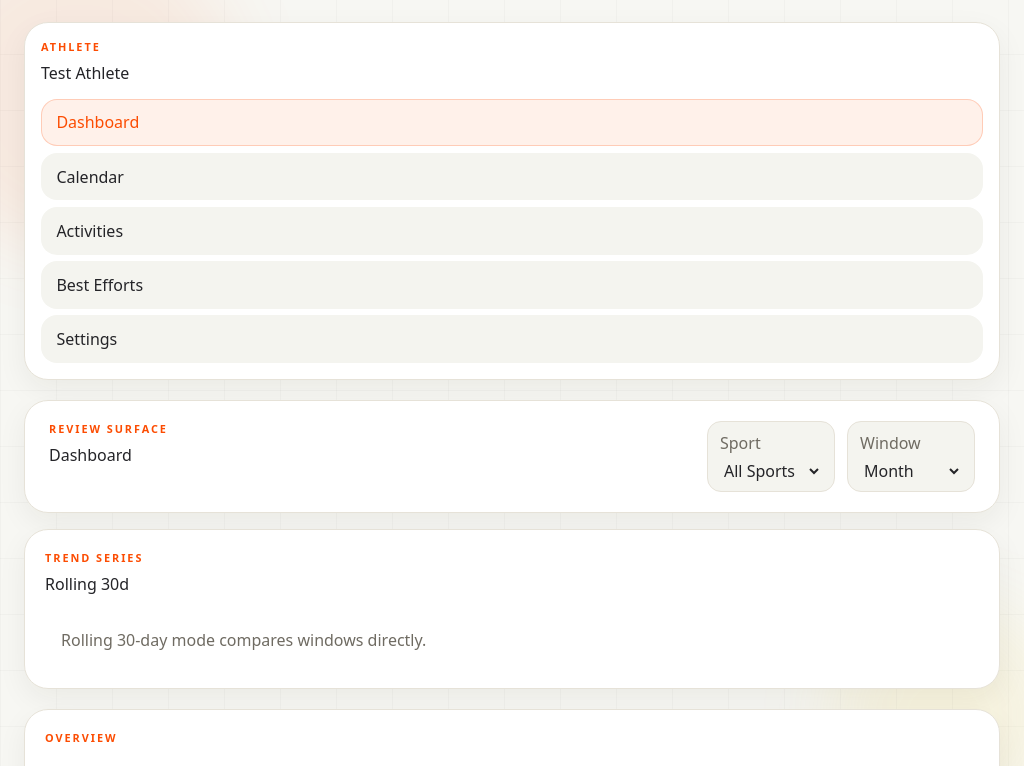
Scenario: App › aggregates daily calendar distance into a single day bubble
Click the button "Calendar" at (90,177), box left=41, top=153, right=983, bottom=200
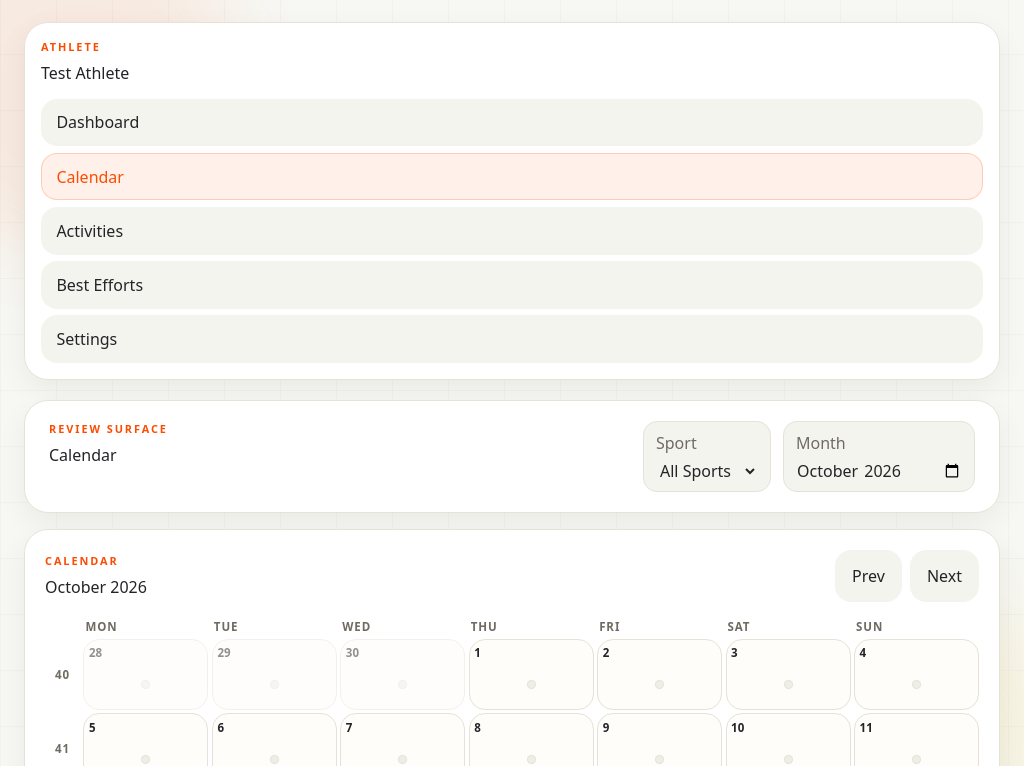
Replace the text in the field labelled "Month" with "2026-03" at (879,471), box left=796, top=459, right=962, bottom=483
(page scrolled)
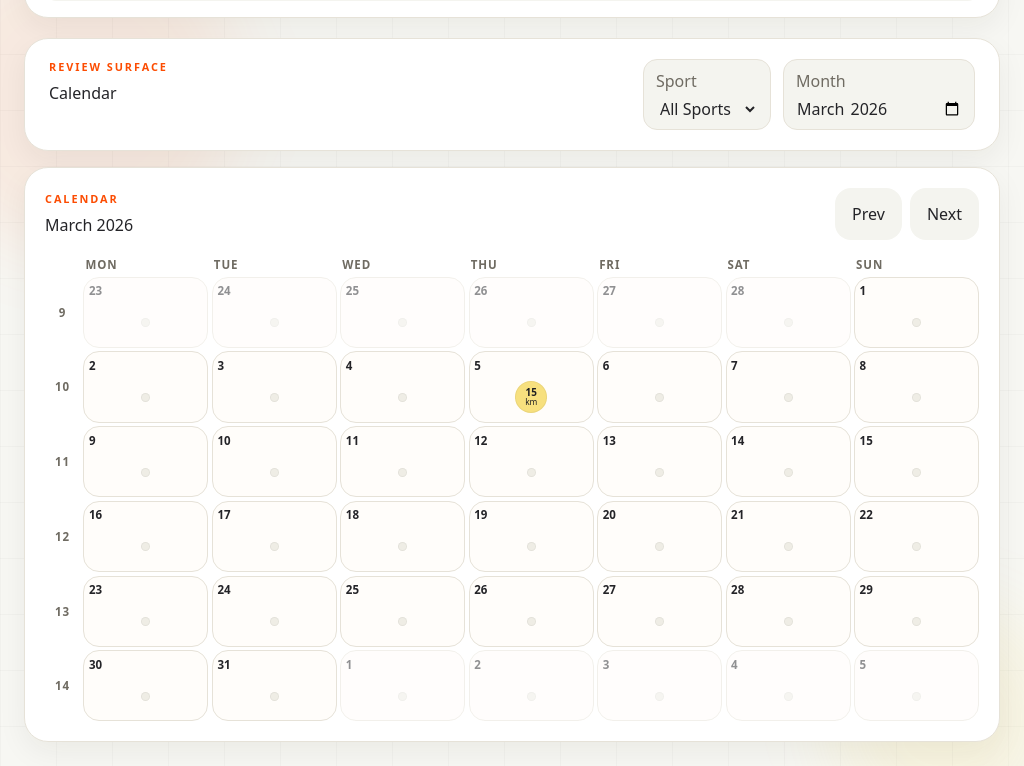
Expected: the button with aria-label "15 km, 2 activities" is shown, left=515, top=381, right=547, bottom=413
